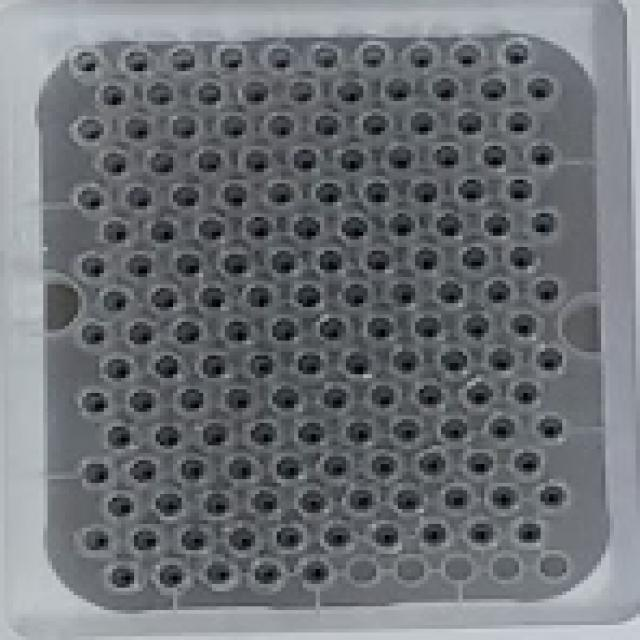vial: (483, 346, 520, 375), (452, 110, 488, 136), (408, 317, 446, 341), (538, 346, 567, 377), (71, 48, 103, 76), (300, 560, 333, 587), (513, 450, 544, 478), (72, 118, 106, 143), (455, 179, 487, 205), (509, 383, 541, 409), (432, 144, 465, 169), (78, 388, 111, 413), (411, 180, 441, 207), (313, 180, 344, 206), (465, 382, 496, 408), (263, 44, 295, 69), (524, 75, 556, 100), (220, 113, 252, 138), (412, 248, 444, 273), (536, 416, 568, 441), (76, 184, 104, 212), (123, 48, 152, 75), (344, 351, 373, 378), (253, 560, 282, 587), (128, 457, 158, 483), (505, 109, 536, 134), (477, 75, 509, 99), (360, 180, 392, 204), (175, 253, 202, 281), (405, 44, 434, 70), (223, 250, 252, 276), (130, 387, 156, 416), (468, 522, 497, 548), (144, 82, 174, 107), (434, 213, 464, 238), (296, 353, 326, 378), (335, 80, 366, 104), (430, 77, 461, 101), (264, 112, 295, 136), (241, 148, 272, 172), (125, 186, 156, 210), (503, 180, 534, 204), (437, 351, 468, 375), (100, 220, 132, 243), (391, 284, 423, 307), (158, 565, 190, 588), (483, 212, 510, 239), (361, 40, 389, 66), (486, 277, 514, 303), (538, 485, 566, 511), (341, 284, 370, 309), (273, 386, 302, 411), (464, 452, 493, 477), (205, 561, 234, 586), (105, 356, 135, 380), (339, 148, 370, 171), (461, 247, 492, 270), (320, 389, 351, 412), (266, 181, 294, 206), (180, 389, 208, 414), (229, 457, 257, 482), (450, 42, 479, 66), (502, 40, 531, 64), (342, 216, 371, 240), (268, 248, 297, 272), (371, 386, 400, 410), (373, 455, 402, 479), (488, 484, 517, 508), (84, 528, 113, 552), (168, 47, 198, 70), (170, 114, 200, 137), (290, 148, 320, 171), (170, 185, 200, 208), (192, 148, 223, 170), (436, 282, 462, 308), (217, 45, 244, 70), (408, 112, 436, 136), (386, 145, 414, 169), (219, 181, 247, 205), (530, 212, 558, 236), (387, 214, 415, 238), (80, 254, 108, 278), (318, 248, 346, 272), (200, 286, 228, 310), (323, 454, 351, 478), (278, 526, 306, 550), (182, 527, 210, 551), (382, 78, 411, 101), (314, 116, 343, 139), (527, 142, 556, 165), (271, 318, 300, 341), (100, 153, 130, 175), (289, 216, 319, 238), (362, 248, 392, 270), (417, 452, 447, 474), (228, 528, 258, 550), (109, 492, 135, 517), (156, 492, 182, 517), (312, 42, 339, 66), (100, 82, 127, 106), (194, 82, 221, 106), (126, 252, 153, 276), (153, 355, 180, 379), (392, 350, 419, 374), (489, 417, 516, 441), (126, 117, 154, 140), (465, 314, 493, 337), (318, 318, 346, 341), (178, 457, 206, 480), (133, 529, 161, 552), (242, 81, 271, 103), (147, 153, 176, 175), (105, 291, 134, 313), (247, 352, 276, 374), (243, 216, 269, 240), (512, 312, 538, 336), (202, 422, 228, 446), (348, 488, 374, 512), (533, 279, 560, 302), (225, 386, 252, 409), (205, 493, 232, 516), (368, 317, 396, 339), (294, 286, 322, 308), (247, 284, 275, 306), (176, 320, 204, 342), (416, 385, 444, 407), (421, 522, 449, 544), (197, 219, 226, 240), (149, 219, 175, 242), (481, 145, 508, 167), (346, 420, 373, 442), (253, 490, 280, 512), (299, 490, 326, 512), (288, 81, 313, 104), (396, 417, 421, 440), (85, 461, 110, 484), (300, 422, 326, 444), (111, 564, 137, 586), (506, 247, 533, 268), (444, 488, 471, 509), (364, 114, 389, 136), (82, 322, 107, 344), (374, 525, 399, 547), (327, 526, 353, 547), (126, 321, 150, 343), (440, 417, 465, 438), (204, 356, 230, 376), (517, 522, 543, 542), (225, 318, 248, 340), (277, 456, 301, 477), (107, 426, 132, 446), (394, 490, 419, 510), (252, 423, 278, 442), (156, 426, 179, 447), (152, 289, 174, 308)
